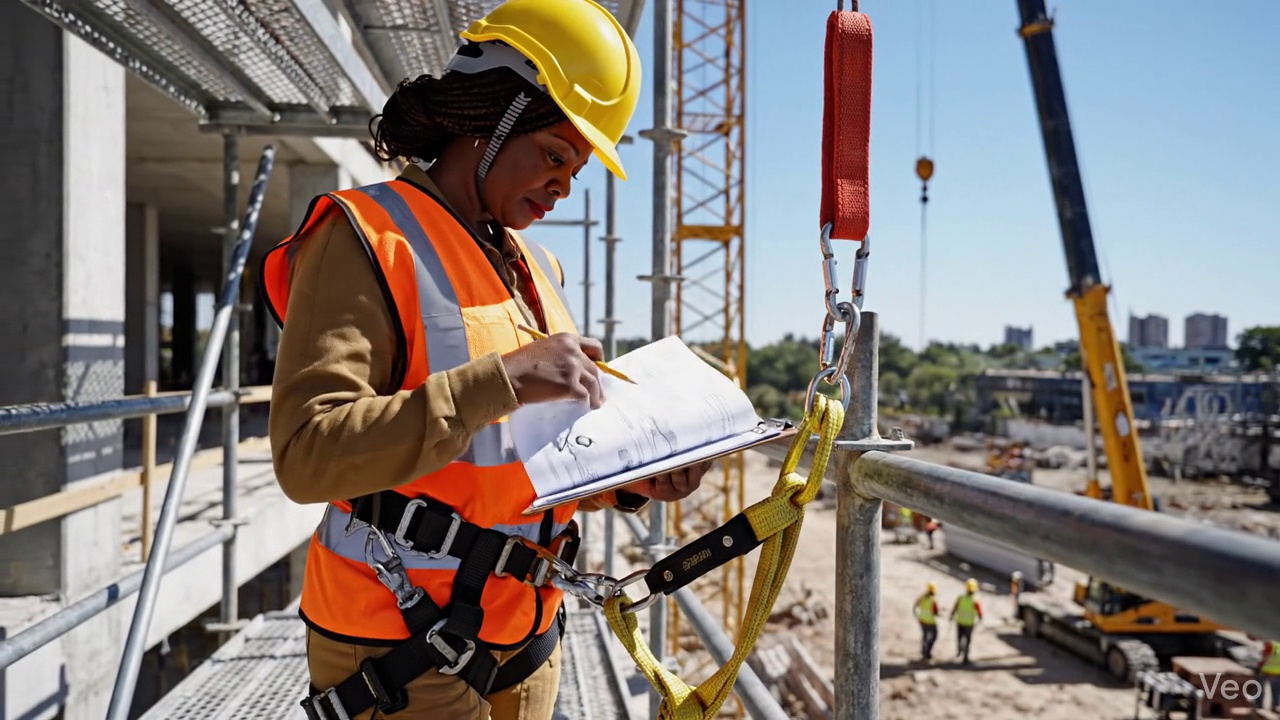p: (262, 0, 640, 719), (577, 463, 708, 510)
